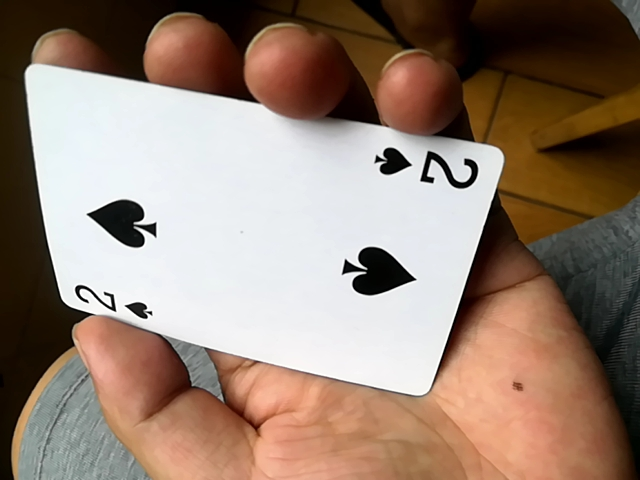ht 2: (29, 53, 510, 401)
